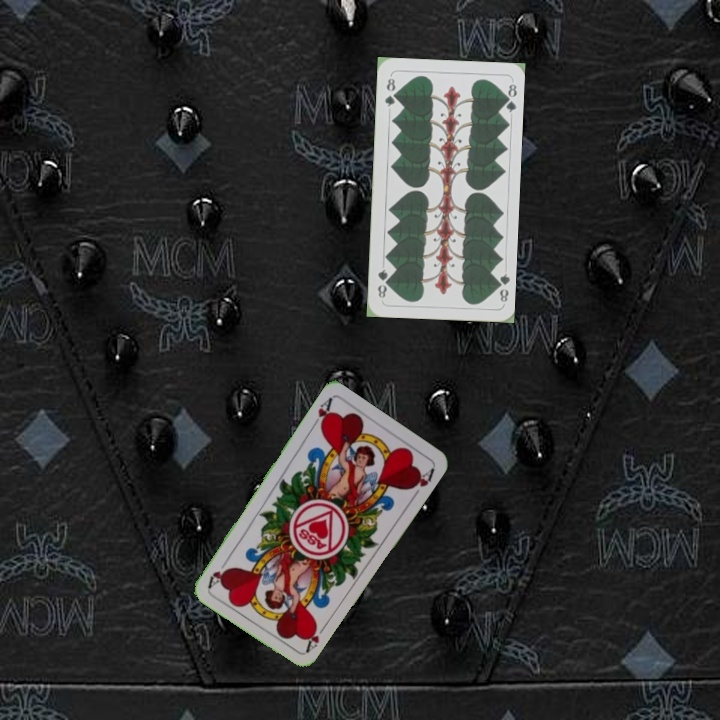G8: (491, 270, 512, 304), (380, 74, 399, 109)
HA: (301, 619, 330, 655), (308, 394, 335, 431)
